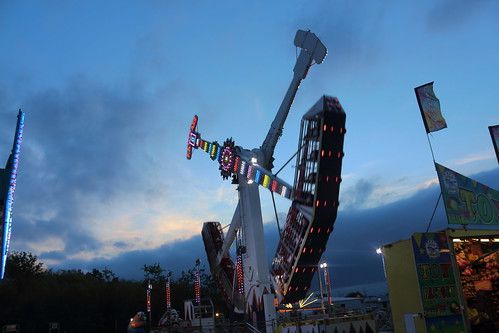sky: (20, 1, 491, 253)
